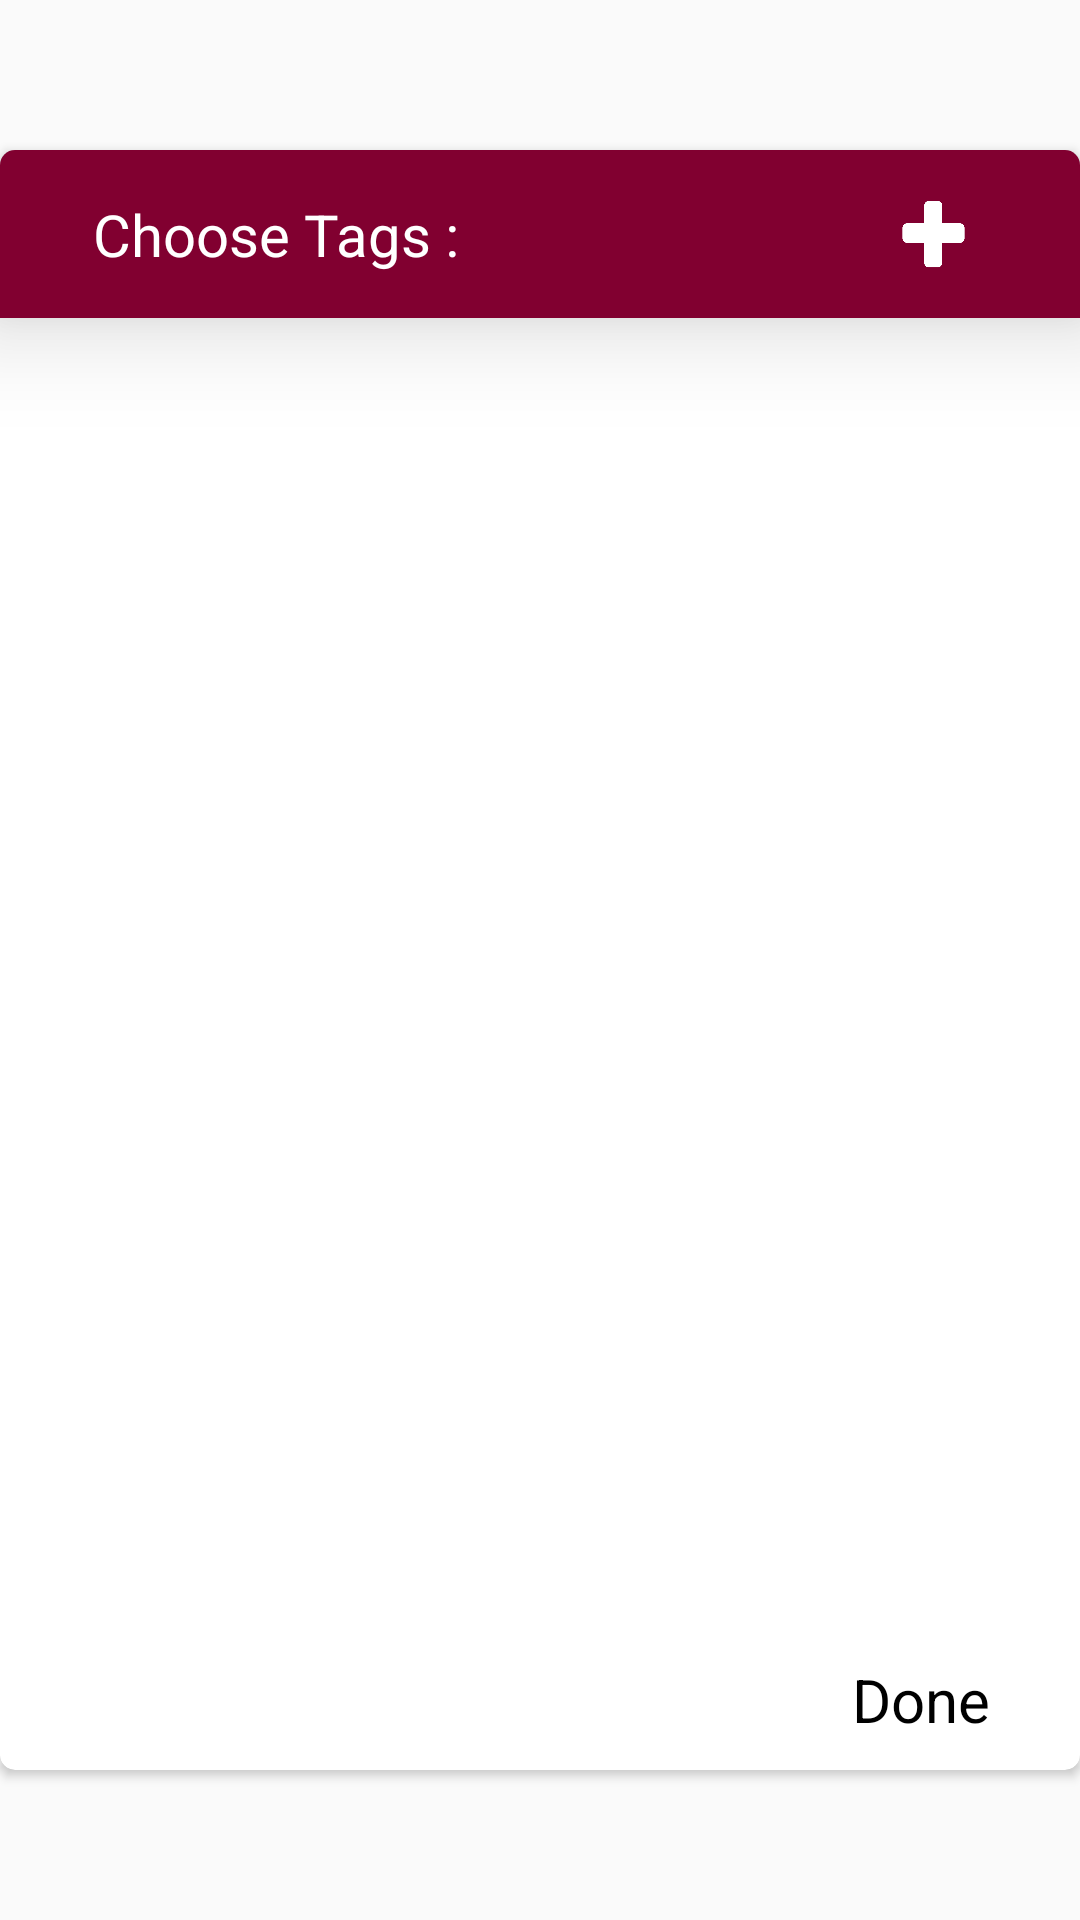

Screen size 1080 × 1920. Icon name, then its box in pixels as (x1, y1, x2, y2):
plus: (902, 201, 965, 267)
